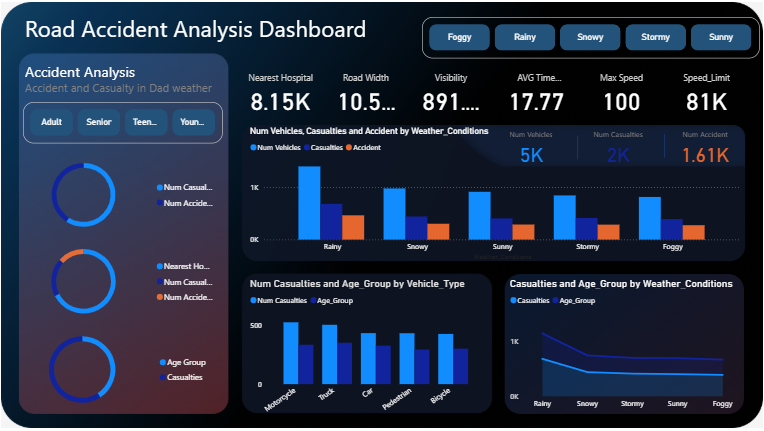

The dashboard page shown, as its layout file describes it:
{"tool":"powerbi","page":{"name":"Overview","canvas":[1280,720],"ordinal":0},"visuals":[{"type":"image","box":[0,0,1280,720],"z":0},{"type":"advancedSlicerVisual","fields":{"Values":["Sheet1.Weather_Conditions"]},"box":[706.9,30.7,562.9,68.6],"z":1000,"group":"g1"},{"type":"donutChart","fields":{"Y":["Sum(Sheet1.Num_Casualties)","CountNonNull(Sheet1.ID)"]},"box":[17.1,255.7,355.7,142.9],"z":1000},{"type":"donutChart","fields":{"Y":["Sum(Sheet1.Distance_to_Nearest_Hospital)","Sum(Sheet1.Num_Casualties)","CountNonNull(Sheet1.ID)"]},"box":[17.1,398.6,355.7,144.3],"z":2000},{"type":"donutChart","fields":{"Y":["CountNonNull(Sheet1.Driver_Age_Group)","Sum(Sheet1.Num_Casualties)"]},"box":[7.1,542.9,354.3,148.6],"z":3000},{"type":"clusteredColumnChart","fields":{"Category":["Sheet1.Weather_Conditions"],"Y":["Sum(Sheet1.Num_Vehicles_Involved)","Sum(Sheet1.Num_Casualties)","CountNonNull(Sheet1.ID)"]},"box":[415,211.7,828.3,228.3],"z":4000},{"type":"clusteredColumnChart","fields":{"Category":["Sheet1.Vehicle_Type"],"Y":["Sum(Sheet1.Num_Casualties)","CountNonNull(Sheet1.Driver_Age_Group)"]},"box":[414.4,463.3,401.1,245.6],"z":5000},{"type":"stackedAreaChart","fields":{"Category":["Sheet1.Weather_Conditions"],"Y":["Sum(Sheet1.Num_Casualties)","CountNonNull(Sheet1.Driver_Age_Group)"]},"box":[848.9,463.3,394.4,228.9],"z":6000},{"type":"advancedSlicerVisual","fields":{"Values":["Sheet1.Driver_Age_Group"]},"box":[41.2,172.1,332.9,68.6],"z":7000,"group":"g1"},{"type":"textbox","box":[40,98.3,333.3,73.3],"z":8000},{"type":"cardVisual","fields":{"Data":["Sum(Sheet1.Distance_to_Nearest_Hospital)","Sum(Sheet1.Road_Width)","Sum(Sheet1.Visibility)","Sheet1.AVG_Time_Taken_for_Emergency_Response","Sheet1.Max Speed","Sum(Sheet1.Speed_Limit)"]},"box":[400,87.1,855.7,141.4],"z":9000},{"type":"cardVisual","fields":{"Data":["Sum(Sheet1.Num_Vehicles_Involved)","Sum(Sheet1.Num_Casualties)","CountNonNull(Sheet1.ID)"]},"box":[815.7,200,437.1,87.1],"z":10000},{"type":"textbox","box":[18.3,15,662.9,68.6],"z":11000,"group":"g1"},{"type":"textbox","box":[40,18.6,715.7,68.6],"z":11000},{"type":"group","id":"g1","title":"Group 1","box":[18.3,15,1251.7,225],"z":12000}]}

Visuals, with their boxes in screenshot pixels (x1, y1, x2, y2), scaled from the page's 1280x720 canvas onto the 764x431 screenshot:
image: bbox=(0, 0, 763, 430)
advancedSlicerVisual - Sheet1.Weather_Conditions: bbox=(422, 18, 758, 59)
donutChart - Sum(Sheet1.Num_Casualties) x CountNonNull(Sheet1.ID): bbox=(10, 153, 223, 239)
donutChart - Sum(Sheet1.Distance_to_Nearest_Hospital) x Sum(Sheet1.Num_Casualties): bbox=(10, 239, 223, 325)
donutChart - CountNonNull(Sheet1.Driver_Age_Group) x Sum(Sheet1.Num_Casualties): bbox=(4, 325, 216, 414)
clusteredColumnChart - Sheet1.Weather_Conditions x Sum(Sheet1.Num_Vehicles_Involved): bbox=(248, 127, 742, 263)
clusteredColumnChart - Sheet1.Vehicle_Type x Sum(Sheet1.Num_Casualties): bbox=(247, 277, 487, 424)
stackedAreaChart - Sheet1.Weather_Conditions x Sum(Sheet1.Num_Casualties): bbox=(507, 277, 742, 414)
advancedSlicerVisual - Sheet1.Driver_Age_Group: bbox=(25, 103, 223, 144)
textbox: bbox=(24, 59, 223, 103)
cardVisual - Sum(Sheet1.Distance_to_Nearest_Hospital) x Sum(Sheet1.Road_Width): bbox=(239, 52, 749, 137)
cardVisual - Sum(Sheet1.Num_Vehicles_Involved) x Sum(Sheet1.Num_Casualties): bbox=(487, 120, 748, 172)
textbox: bbox=(11, 9, 407, 50)
textbox: bbox=(24, 11, 451, 52)
"Group 1" group: bbox=(11, 9, 758, 144)
